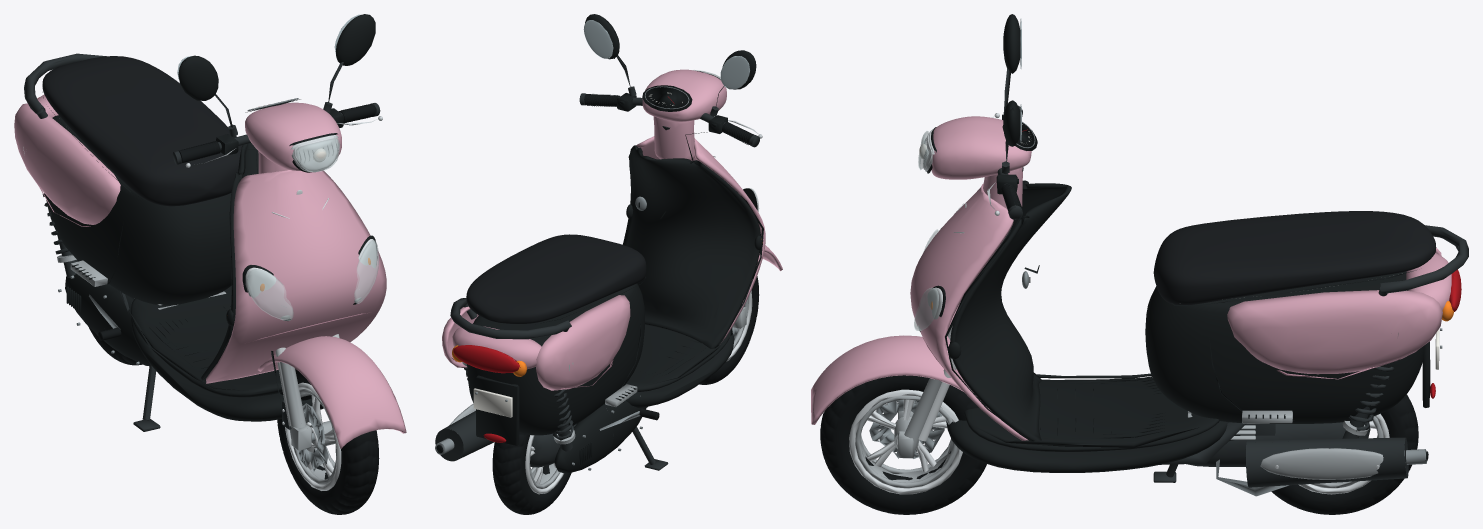
The model's file is near.glb.
3 renders of one model, left to right at view 1: azimuth 30°, elevation 25°; view 2: azimuth 150°, elevation 25°; view 3: azimuth 270°, elevation 25°, orthographic. The views are drawn at different scales.
Visible parts, largest first — view 1: Front body | pearl legshield, Seat | tailored two level black vinyl, Body | underseat bucket, Front fender | curved lacquer shell, Rear body | rose side fairing -1, Floorboard | molded deck, FRONT | directional tread tire, Handlebar | pearl lamp housing, Body | lower belly pan, Engine | left CVT cover, Turn signal | clear faceted cover, Front body | enclosed inner legshield (+15 smaller); view 2: Front body | enclosed inner legshield, Seat | tailored two level black vinyl, Body | underseat bucket, Rear body | rose side fairing -1, Floorboard | molded deck, REAR | directional tread tire, Engine | left CVT cover, Handlebar | pearl lamp housing, Rear | plate and mudflap, Body | lower belly pan, Front body | steering neck fairing, Tail | painted end cap (+16 smaller); view 3: Seat | tailored two level black vinyl, Body | underseat bucket, Rear body | rose side fairing 1, Front body | enclosed inner legshield, Floorboard | molded deck, Front body | pearl legshield, FRONT | directional tread tire, Body | lower belly pan, Front fender | curved lacquer shell, Handlebar | pearl lamp housing, Exhaust | black muffler, REAR | directional tread tire (+12 smaller).
Part boxes in pixels (x1,y1,x2,y2): Front body | pearl legshield: (206, 170, 386, 383); Seat | tailored two level black vinyl: (42, 56, 242, 206); Body | underseat bucket: (46, 115, 231, 305); Front fender | curved lacquer shell: (258, 336, 406, 448); Rear body | rose side fairing -1: (14, 103, 120, 224); Floorboard | molded deck: (131, 286, 282, 397); FRONT | directional tread tire: (277, 368, 379, 514); Handlebar | pearl lamp housing: (245, 102, 341, 170); Body | lower belly pan: (131, 317, 323, 421); Engine | left CVT cover: (65, 273, 151, 366); Turn signal | clear faceted cover: (247, 269, 293, 320); Front body | enclosed inner legshield: (201, 143, 258, 380); Front body | enclosed inner legshield: (622, 145, 760, 348); Seat | tailored two level black vinyl: (466, 234, 646, 323); Body | underseat bucket: (467, 283, 644, 435); Rear body | rose side fairing -1: (536, 295, 630, 390); Floorboard | molded deck: (624, 325, 729, 391); REAR | directional tread tire: (492, 432, 571, 514); Engine | left CVT cover: (554, 400, 646, 473); Handlebar | pearl lamp housing: (642, 69, 726, 121); Rear | plate and mudflap: (476, 375, 519, 446); Body | lower belly pan: (625, 333, 734, 407); Front body | steering neck fairing: (653, 116, 694, 160); Tail | painted end cap: (452, 326, 541, 369); Seat | tailored two level black vinyl: (1153, 211, 1436, 305); Body | underseat bucket: (1145, 271, 1424, 423); Rear body | rose side fairing 1: (1227, 290, 1442, 374); Front body | enclosed inner legshield: (950, 180, 1071, 440); Floorboard | molded deck: (964, 377, 1219, 451); Front body | pearl legshield: (910, 183, 1028, 440); FRONT | directional tread tire: (820, 375, 986, 514); Body | lower belly pan: (946, 420, 1228, 472); Front fender | curved lacquer shell: (811, 335, 963, 424); Handlebar | pearl lamp housing: (931, 116, 1031, 179); Exhaust | black muffler: (1245, 437, 1408, 487); REAR | directional tread tire: (1271, 394, 1418, 514).
Bounding box in the file's own units: 0.7524 × 1.54 × 2.03.
